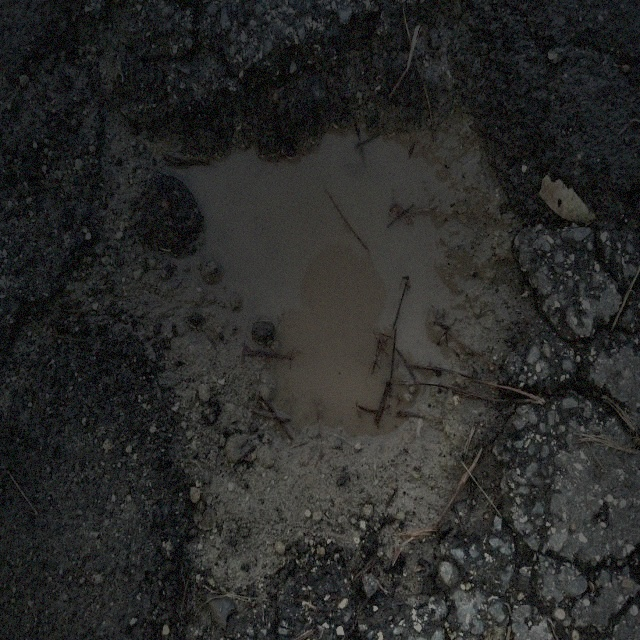pothole: (74, 80, 550, 596)
